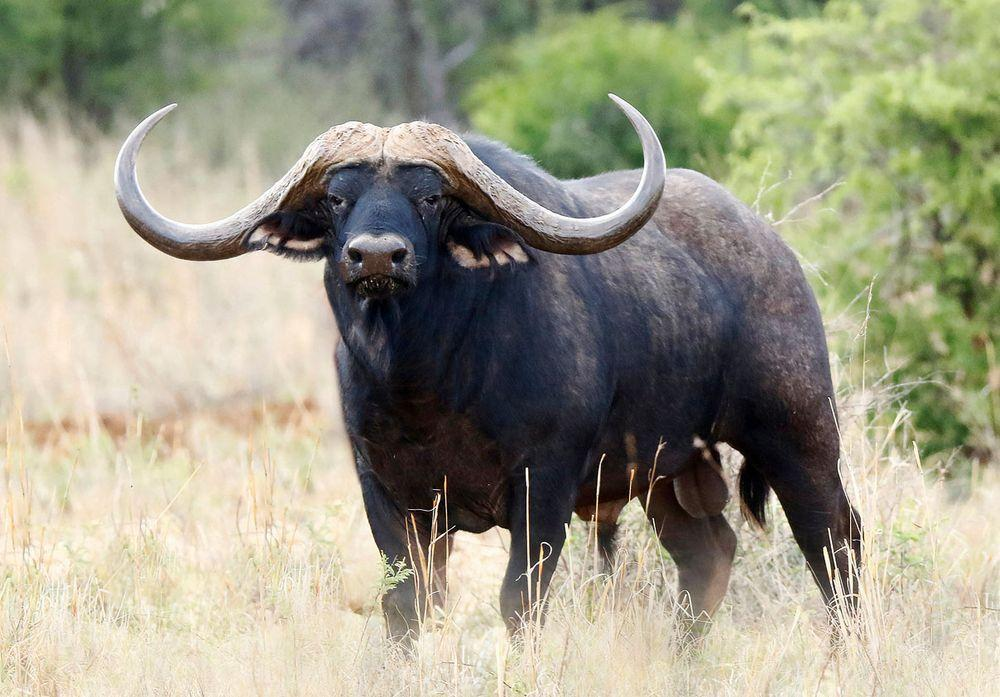Buffalo: (44, 27, 945, 618)
